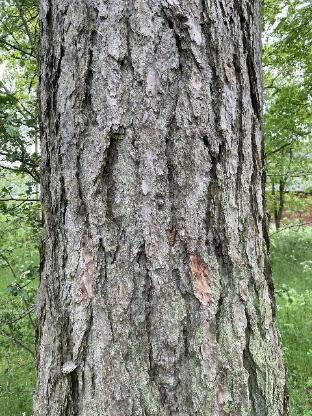tree: (27, 0, 291, 416)
